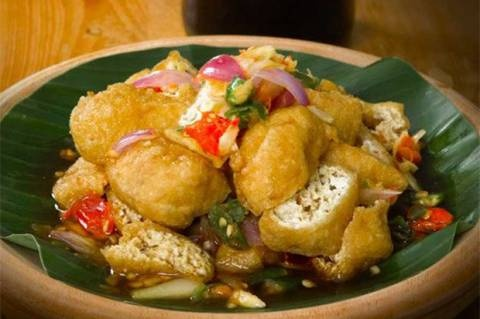tahu_gejrot: (51, 45, 436, 307)
